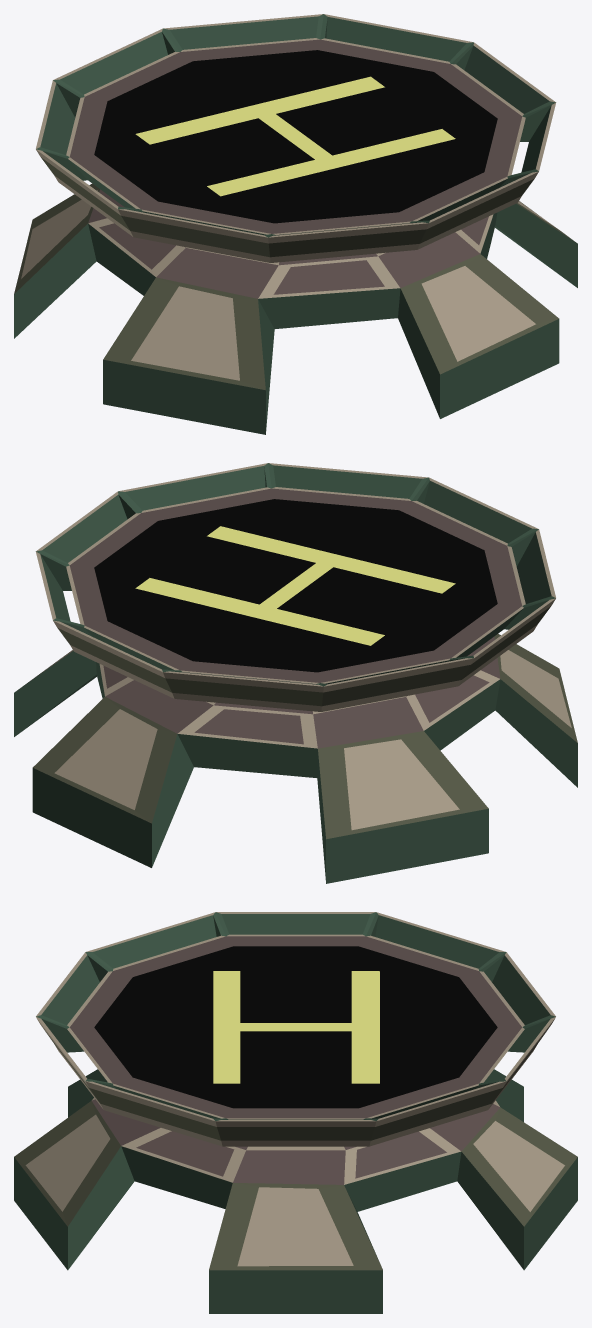
File: HelicopterPad.fbx
The picture shows the model from 3 angles, top to bottom: view 1: azimuth 30°, elevation 25°; view 2: azimuth 150°, elevation 25°; view 3: azimuth 270°, elevation 25°; orthographic projection. The views are drawn at different scales.
Visible parts, largest first — view 1: Cylinder; view 2: Cylinder; view 3: Cylinder.
Boxes of the visible parts, box(x1,y1,x2,y2) form: Cylinder: box(14, 14, 577, 434); Cylinder: box(14, 463, 577, 883); Cylinder: box(14, 912, 577, 1313).
Size of the model in its own units: 7.61 by 2.88 by 8.
